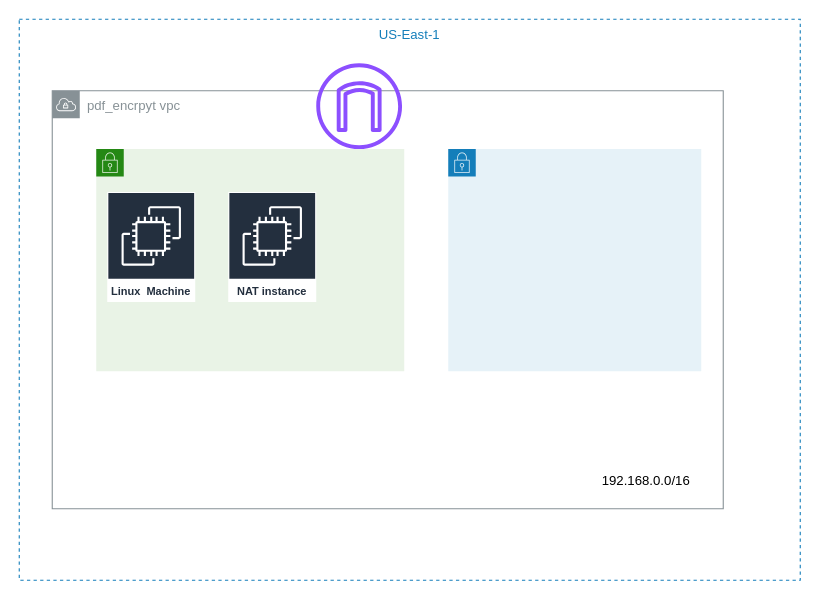
Some shapes in this 820 by 600 pixel diagram are drawn without their labels. The shapes that lost their labels are listed below. From the top down, each one's box as (x1, y1, x2, y2) in pixels, then its label:
(95, 148, 404, 371): Public subnet
(447, 148, 701, 371): Private subnet
